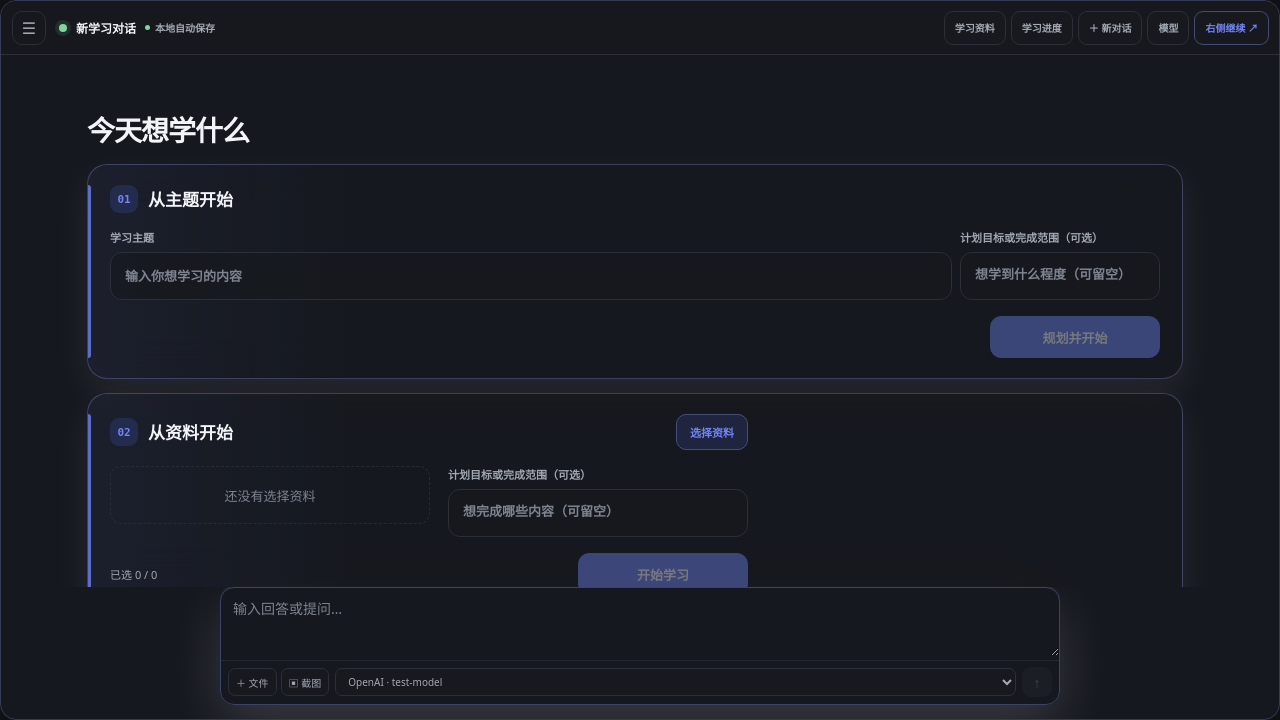
Test case: starts autonomous learning with an explicitly source-free request
The width and height of the screenshot is (1280, 720).
Expected: the button "＋ 新对话" is shown, [1078, 10, 1142, 44]
Expected: the button named "历史对话" is shown, [12, 11, 46, 45]
Type "Python" into the field named "想学习的主题" at x=531, y=276, box [110, 252, 952, 300]
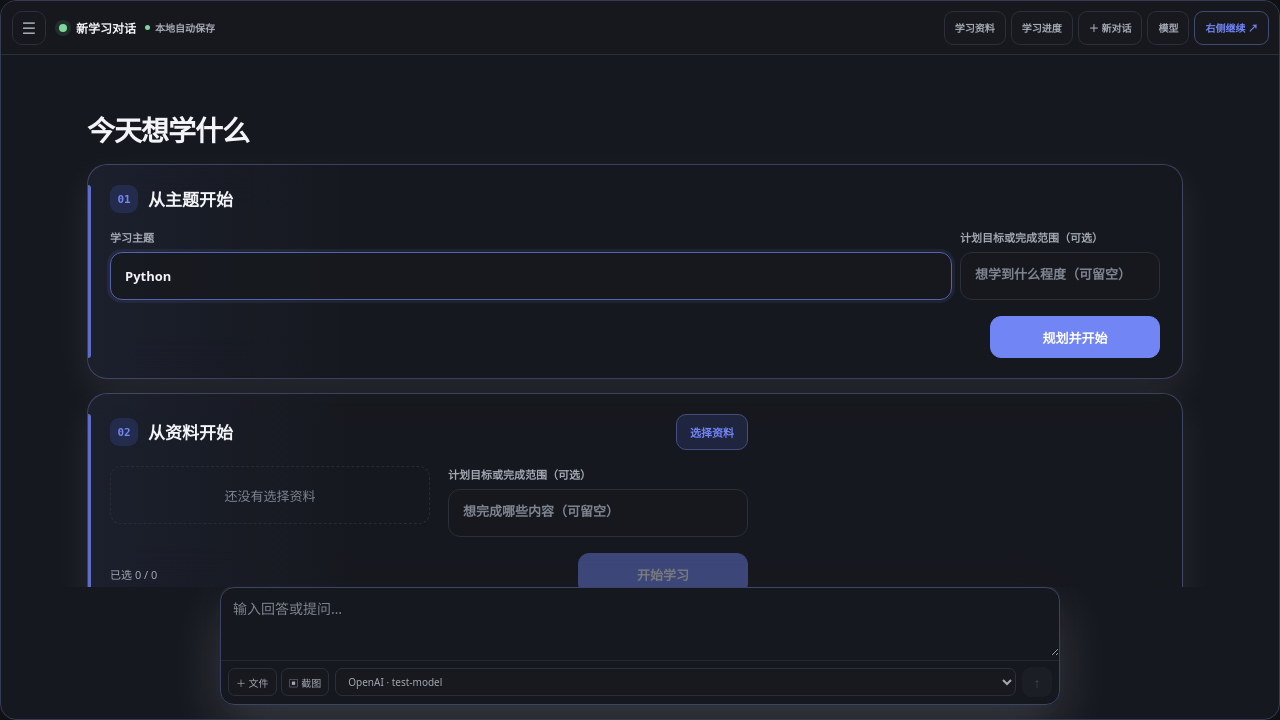
Click the button with aria-label "规划并开始学习" at x=1075, y=337, box [990, 316, 1160, 358]
(page scrolled)
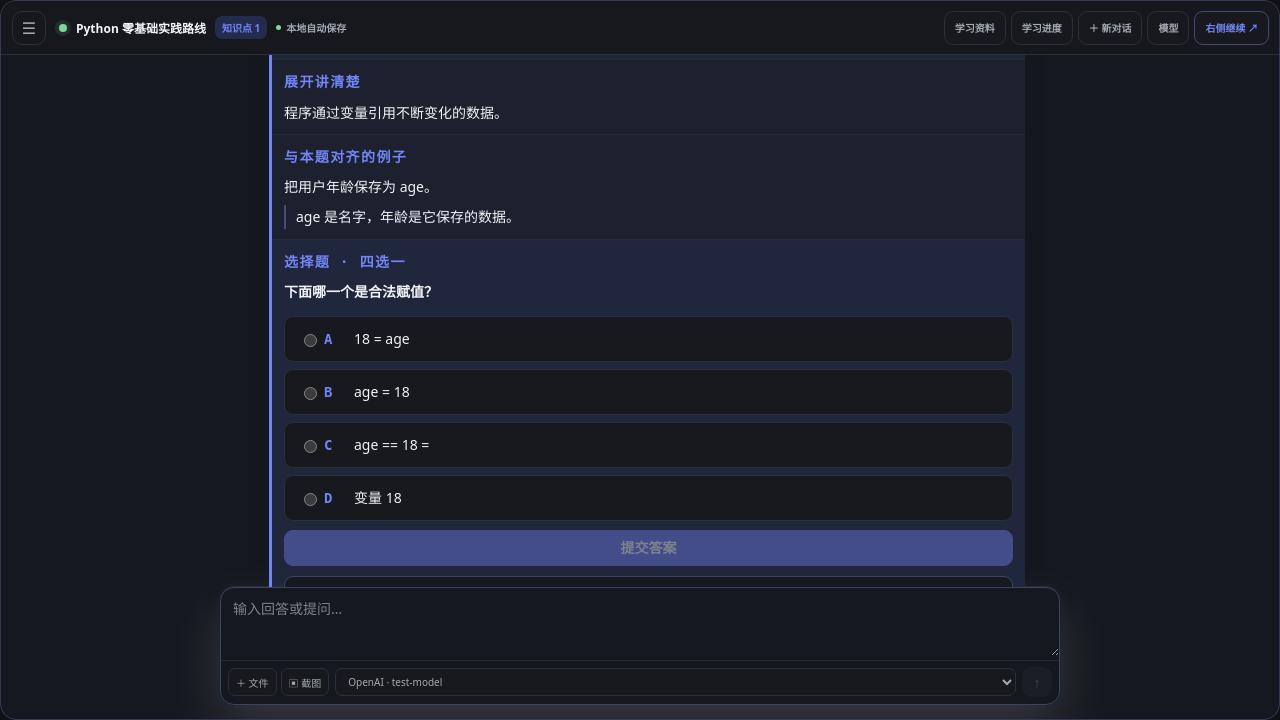
Now the element named "学习知识点：变量" is shown, box [269, 55, 1025, 587]
